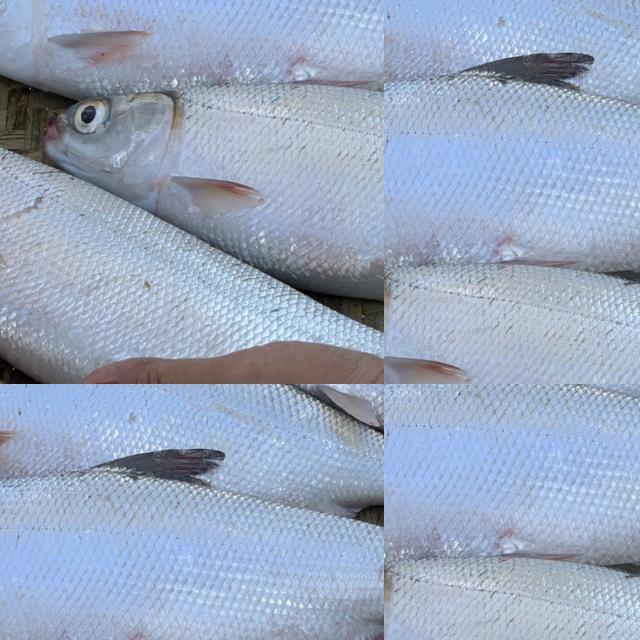fish: (0, 0, 384, 384), (0, 384, 380, 637), (384, 110, 640, 384)
